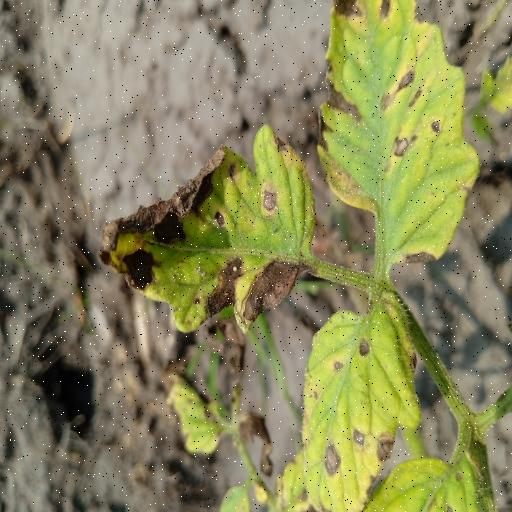Tomato_Brown_Spots: (101, 121, 322, 340), (313, 0, 483, 269), (303, 289, 424, 509)
